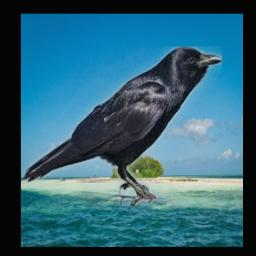Crow: (23, 47, 223, 207)
